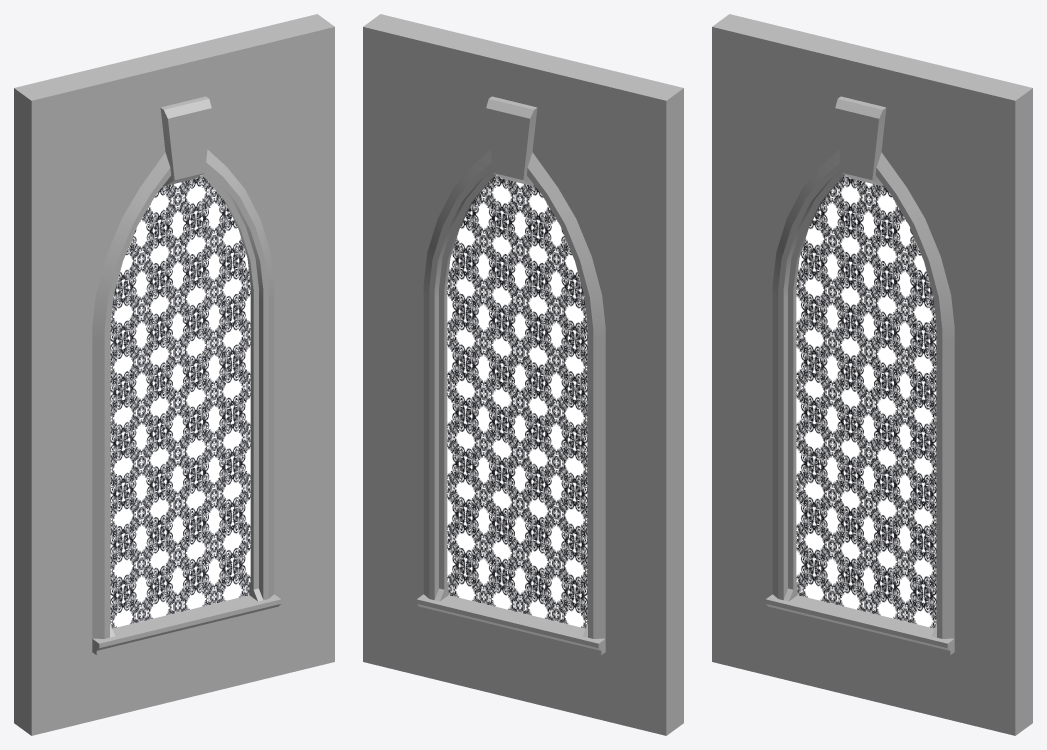
3 views of the same model, side by side, from view 1: azimuth 30°, elevation 25°; view 2: azimuth 150°, elevation 25°; view 3: azimuth 330°, elevation 25° (orthographic).
Parts seen in each view (by area): view 1: SM_Wall10x5-2Window_LOD0; view 2: SM_Wall10x5-2Window_LOD0; view 3: SM_Wall10x5-2Window_LOD0.
Boxes of the visible parts, x1,y1,x2,y2 form: SM_Wall10x5-2Window_LOD0: (14,14,334,735); SM_Wall10x5-2Window_LOD0: (363,14,683,735); SM_Wall10x5-2Window_LOD0: (712,14,1032,735).
Size of the model in its own units: 500 by 90 by 1000.
